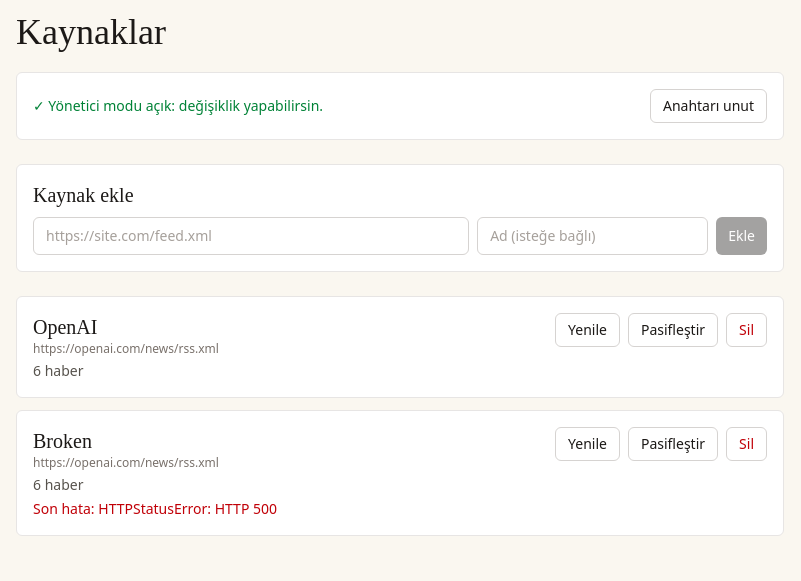
Test: FeedsView › shows the result of a manual refresh
The image size is (801, 581).
Click the 1st button "Yenile" at coordinates (587, 330), box top-left (555, 313), bottom-right (620, 347)
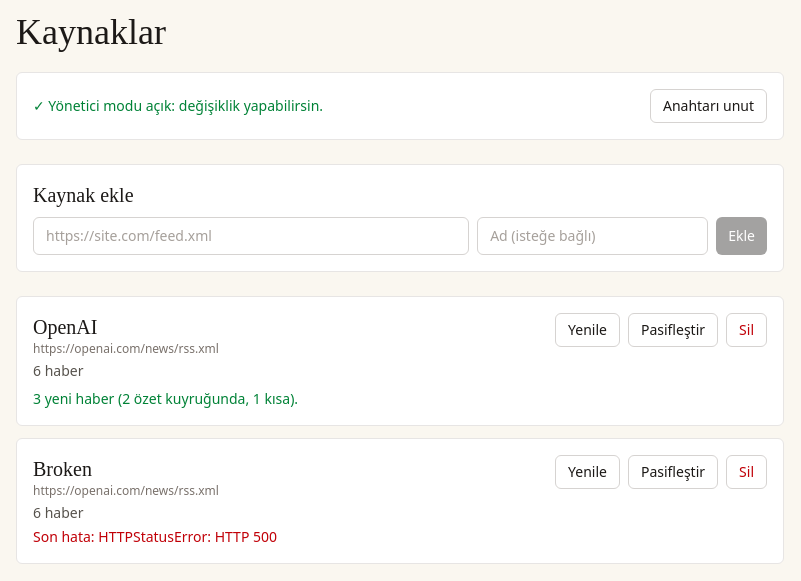
expect the text "3 yeni haber (2 özet kuyruğunda, 1 kısa)." is shown: met, box top-left (33, 389), bottom-right (298, 408)
